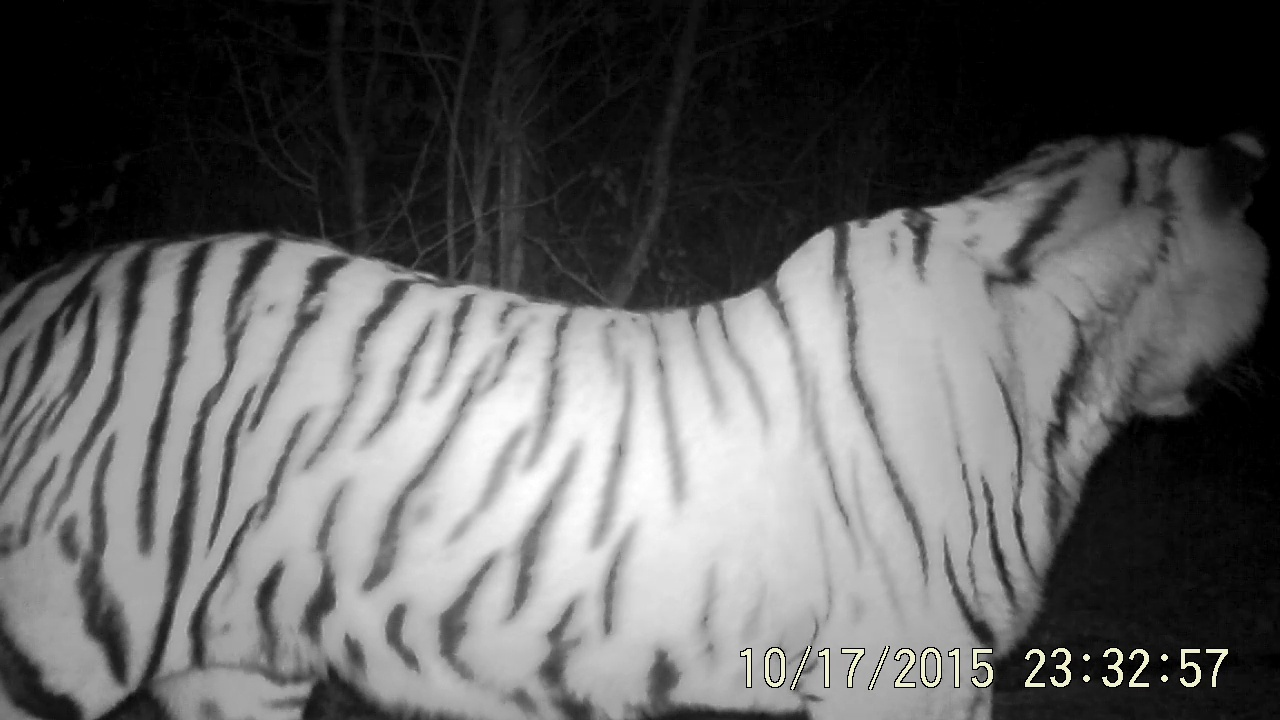Tiger: (4, 26, 1280, 720)
